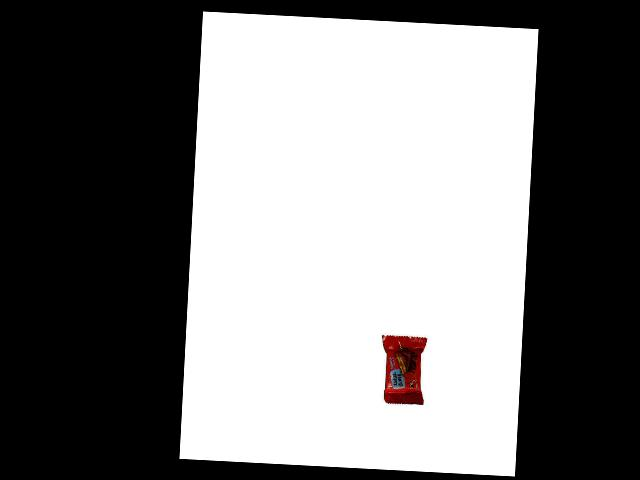chocolate: (374, 334, 426, 411)
